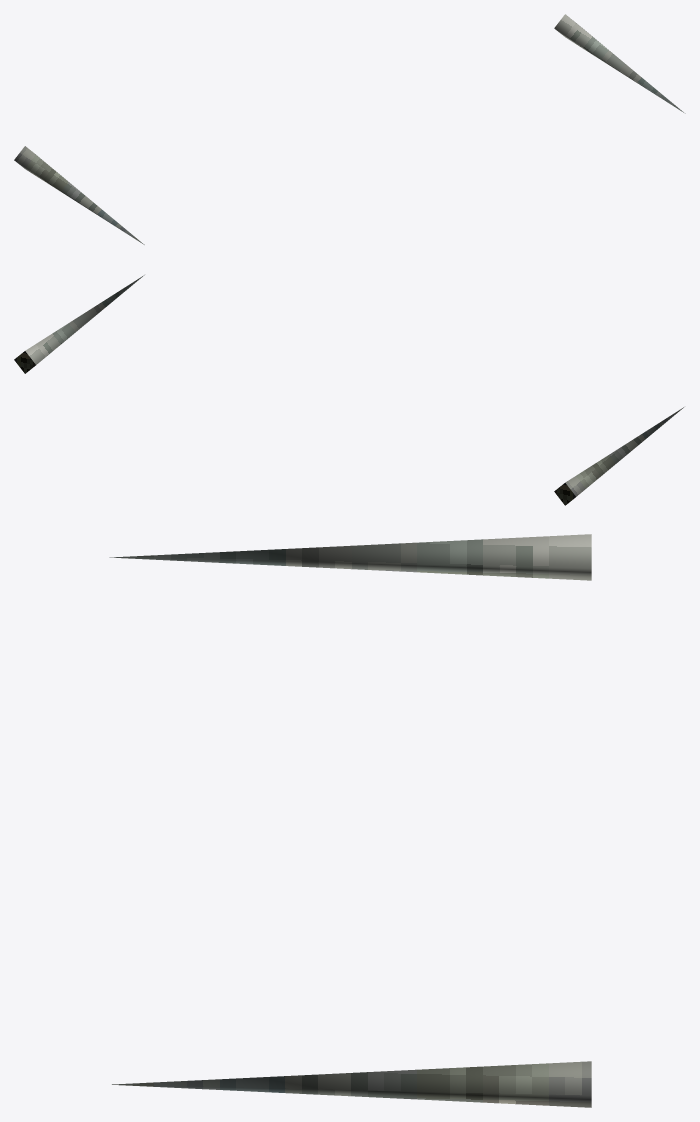
File: hutt_fighter_medium_weapon1_s01_l3.fbx
The picture shows the model from 3 angles, top to bottom: view 1: azimuth 30°, elevation 25°; view 2: azimuth 150°, elevation 25°; view 3: azimuth 270°, elevation 25°; orthographic projection. The views are drawn at different scales.
Parts seen in each view (by area): view 1: mesh_node; view 2: mesh_node; view 3: mesh_node.
Part boxes in pixels (x1=…): mesh_node: x1=14, y1=14, x2=685, y2=244; mesh_node: x1=14, y1=275, x2=683, y2=505; mesh_node: x1=109, y1=534, x2=591, y2=1107.
Bounding box in the file's own units: 12.97 × 0.5129 × 4.83.
Materials: 1 (1 with a texture image).
